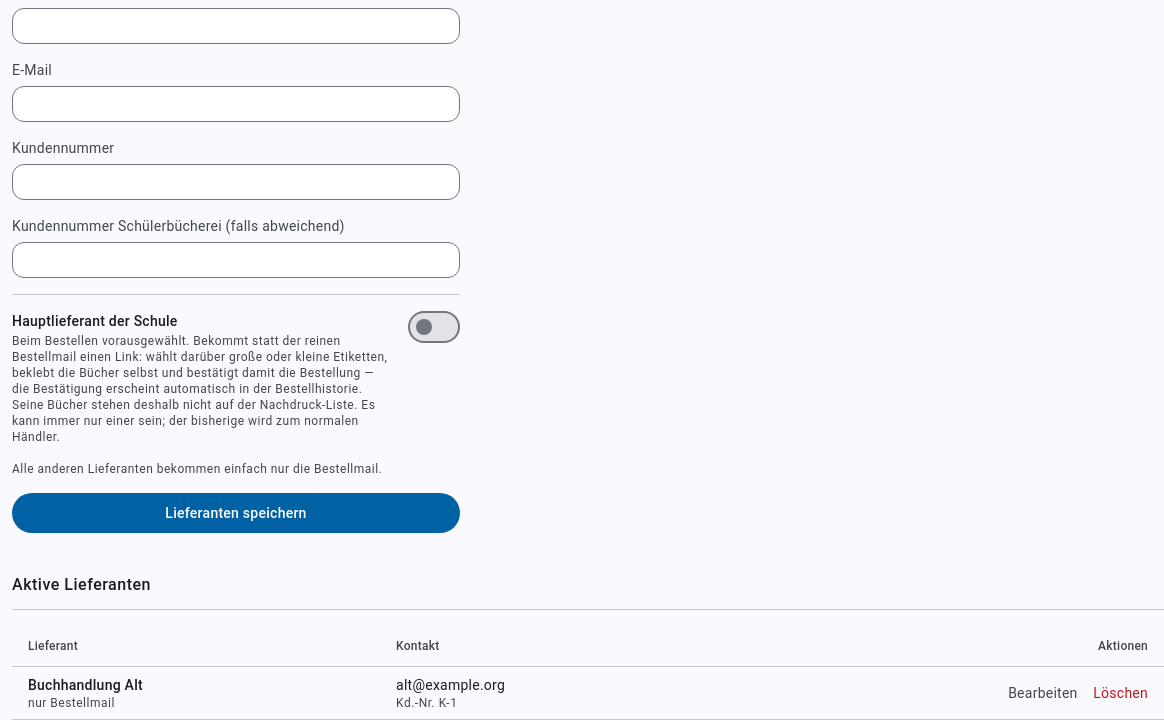
Scenario: Lieferanten: Löschen › schickt einen zweiten Klick nicht, solange das Löschen läuft
(page scrolled)
Click the button with aria-label "Lieferant Buchhandlung Alt löschen". click: click(1121, 692)
box: [1093,682,1148,702]
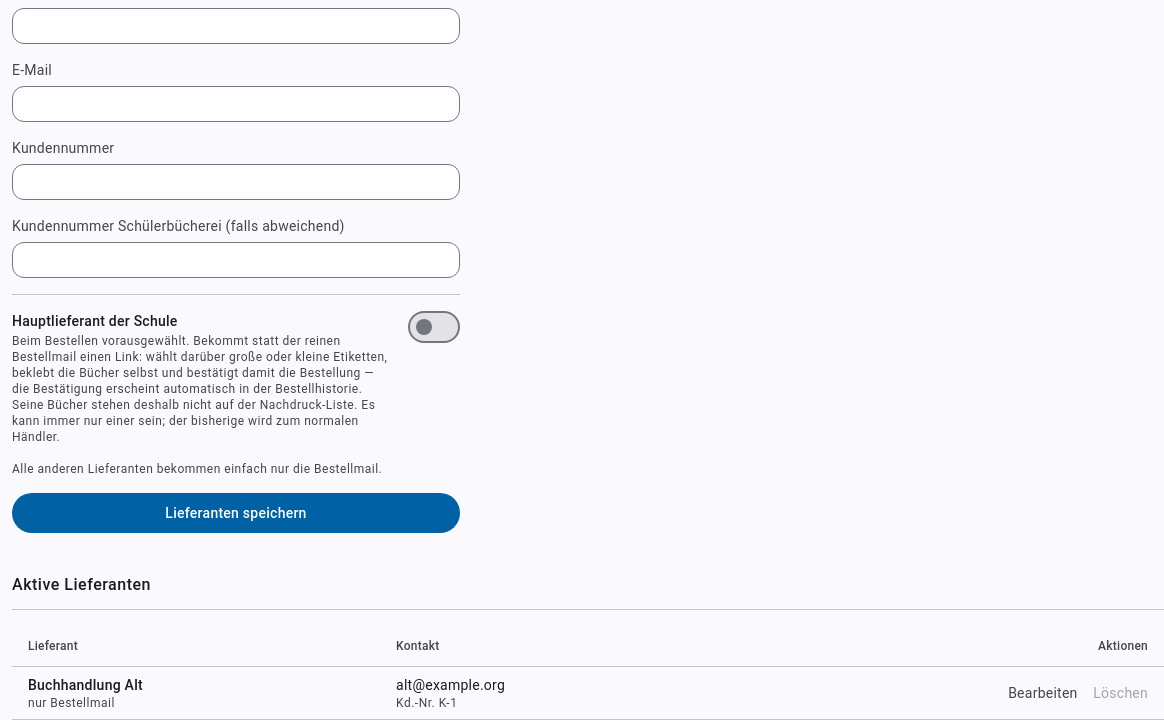
Check: the button with aria-label "Lieferant Buchhandlung Alt löschen" is disabled
Click the button with aria-label "Lieferant Buchhandlung Alt löschen". click: click(1121, 692)
box: [1093,682,1148,702]
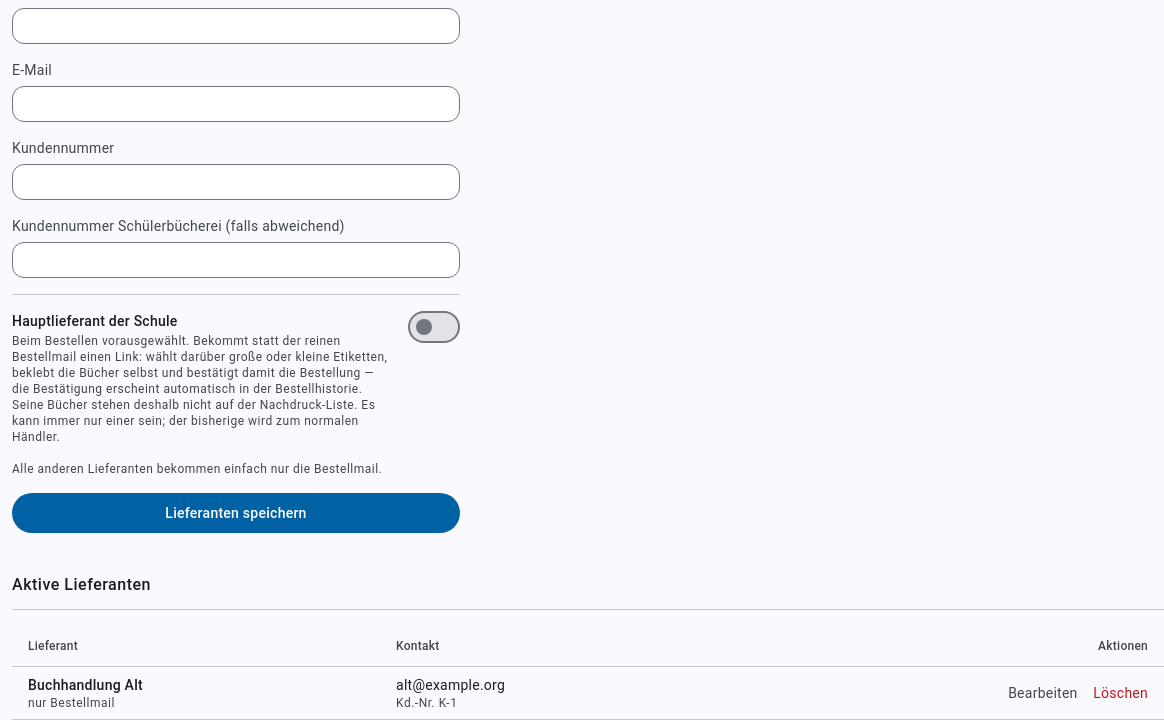
Check: the button with aria-label "Lieferant Buchhandlung Alt löschen" is enabled, box [1093,682,1148,702]
